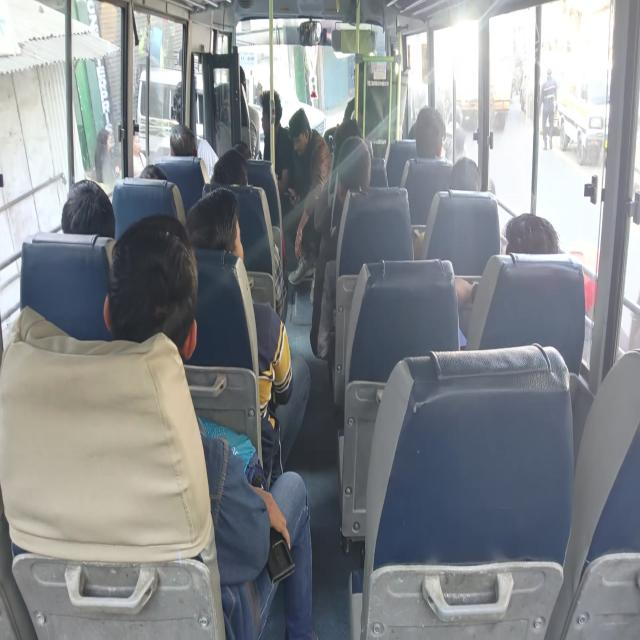person: (103, 212, 316, 638), (184, 186, 311, 487), (454, 212, 561, 348), (310, 135, 371, 359), (210, 149, 287, 323), (502, 212, 597, 318), (284, 107, 331, 284), (400, 105, 451, 226), (259, 89, 292, 194), (61, 178, 115, 238), (218, 65, 253, 156), (169, 123, 219, 181), (502, 212, 560, 254), (414, 105, 446, 159), (540, 68, 558, 150), (94, 128, 120, 184), (210, 148, 248, 186), (169, 124, 197, 156), (132, 132, 147, 177), (138, 163, 168, 180)
